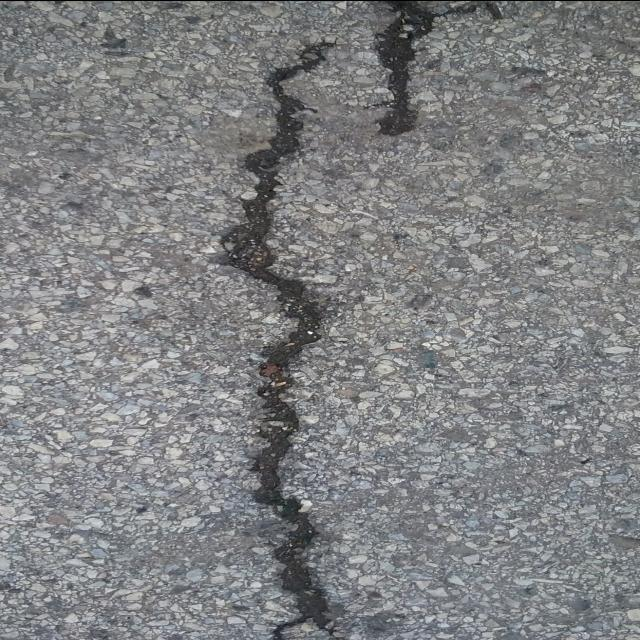Crack: (224, 40, 347, 640), (373, 0, 502, 139)
